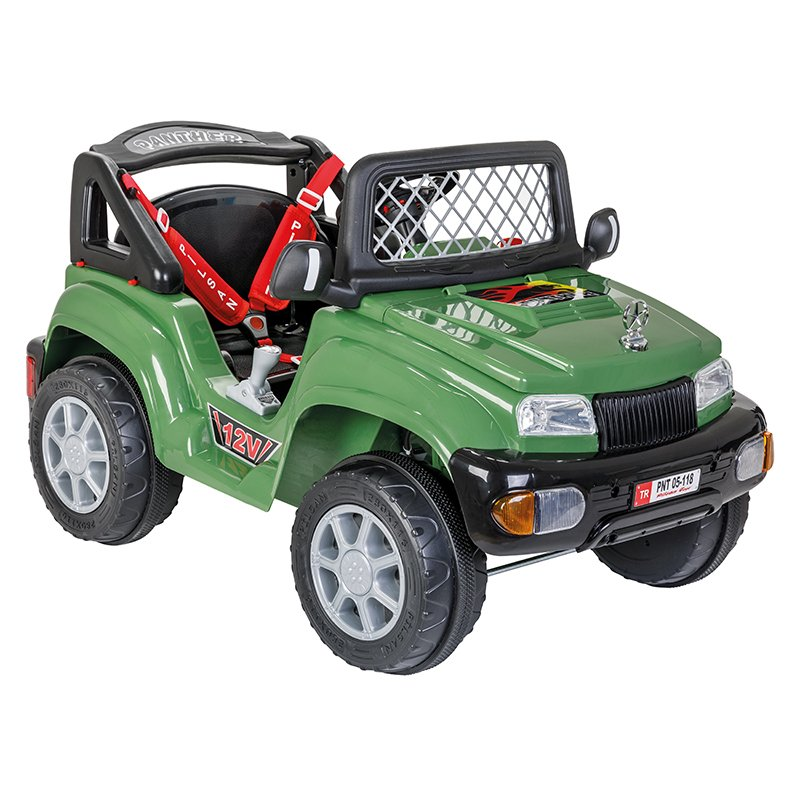ARABA: (25, 116, 776, 678)
